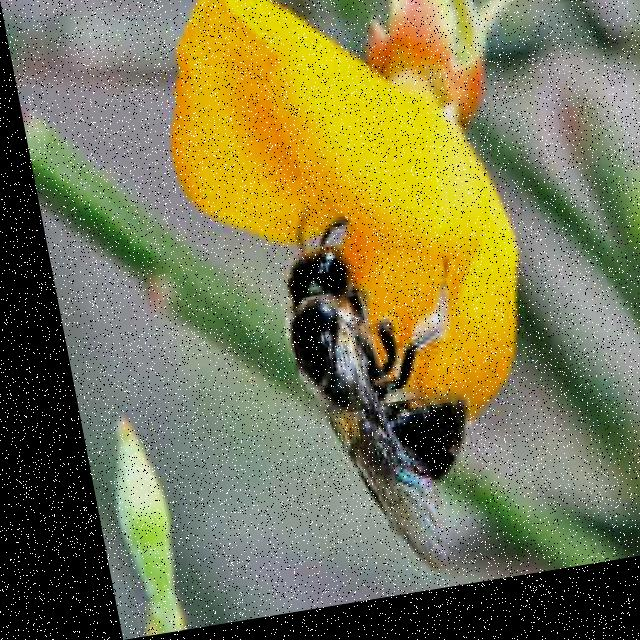Braunsapis: (238, 186, 509, 558)
